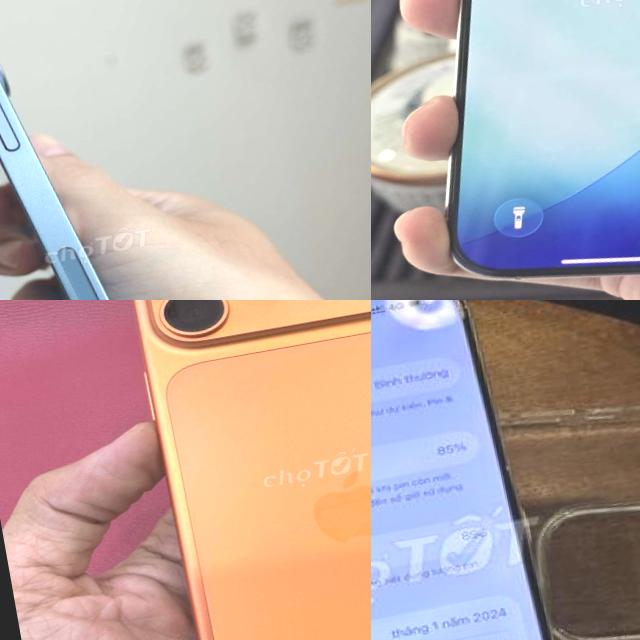gen_14: (0, 0, 212, 300)
gen_15: (371, 300, 602, 640)
gen_16: (446, 0, 640, 276)
gen_17: (102, 300, 371, 640)
